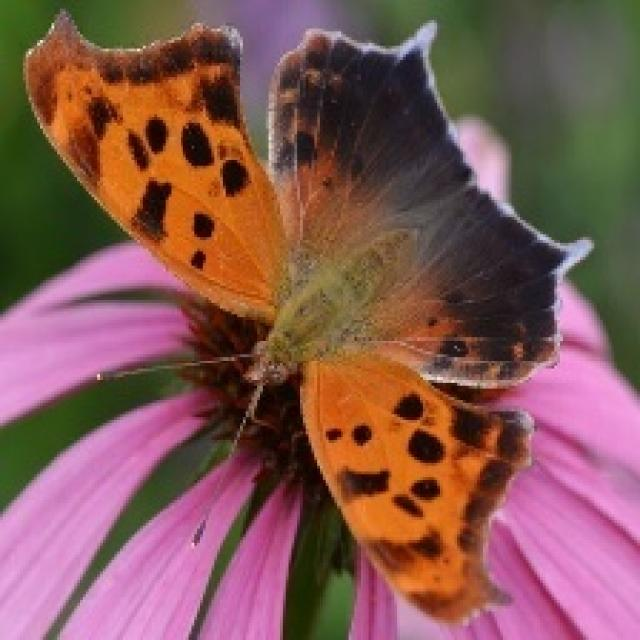butterfly: (29, 5, 592, 622)
